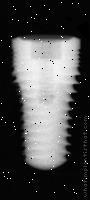Implant Direct: (11, 36, 82, 172)
